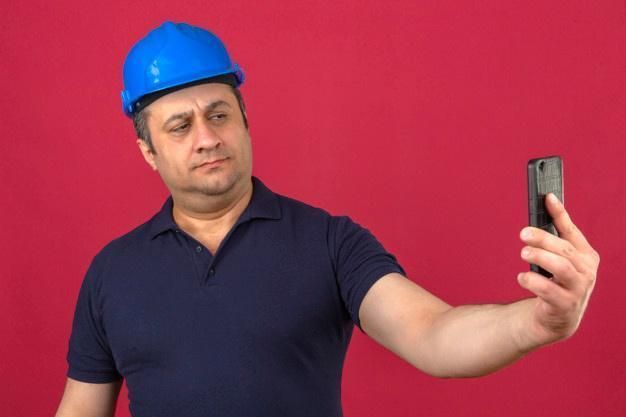helmet: (119, 18, 245, 118)
